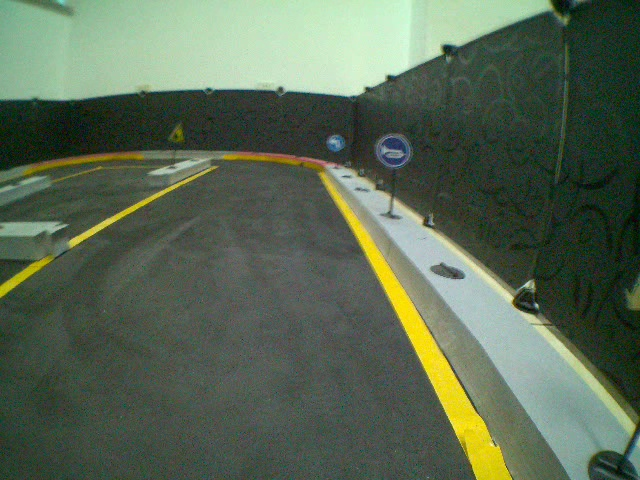fast: (167, 120, 186, 146)
horn: (374, 131, 413, 170)
turn: (326, 132, 344, 152)
